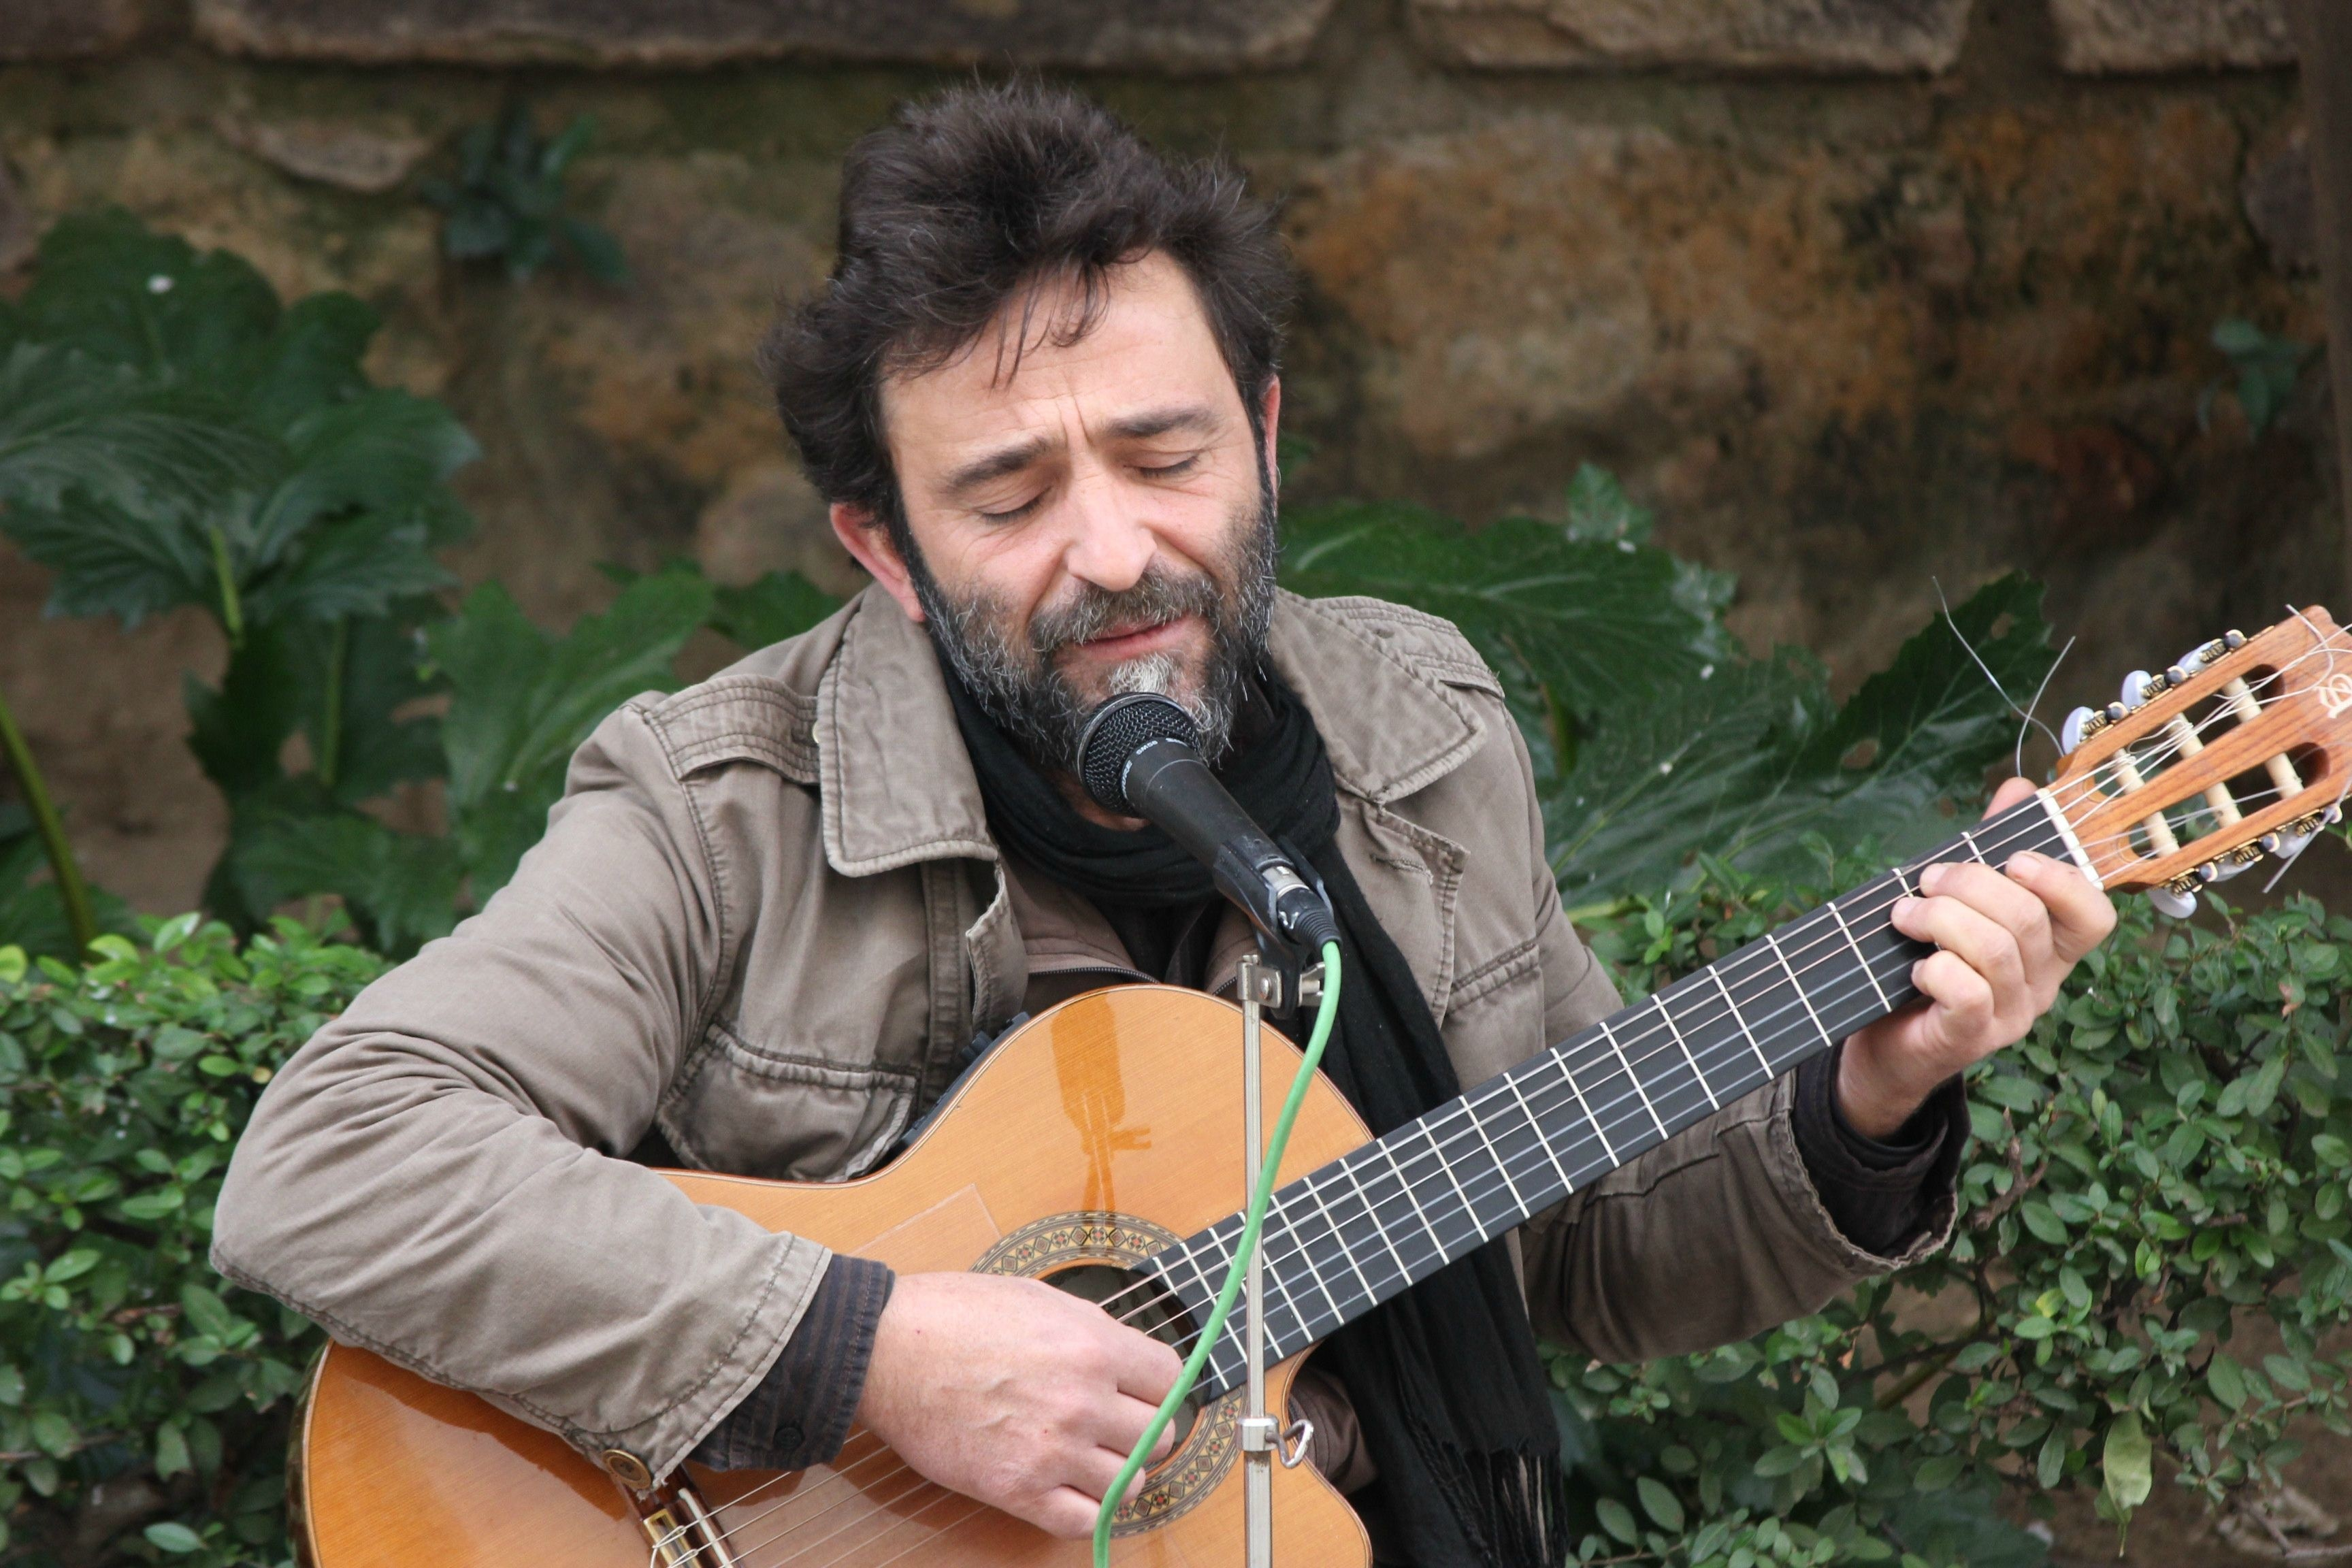face_no_mask: (770, 90, 1296, 755)
